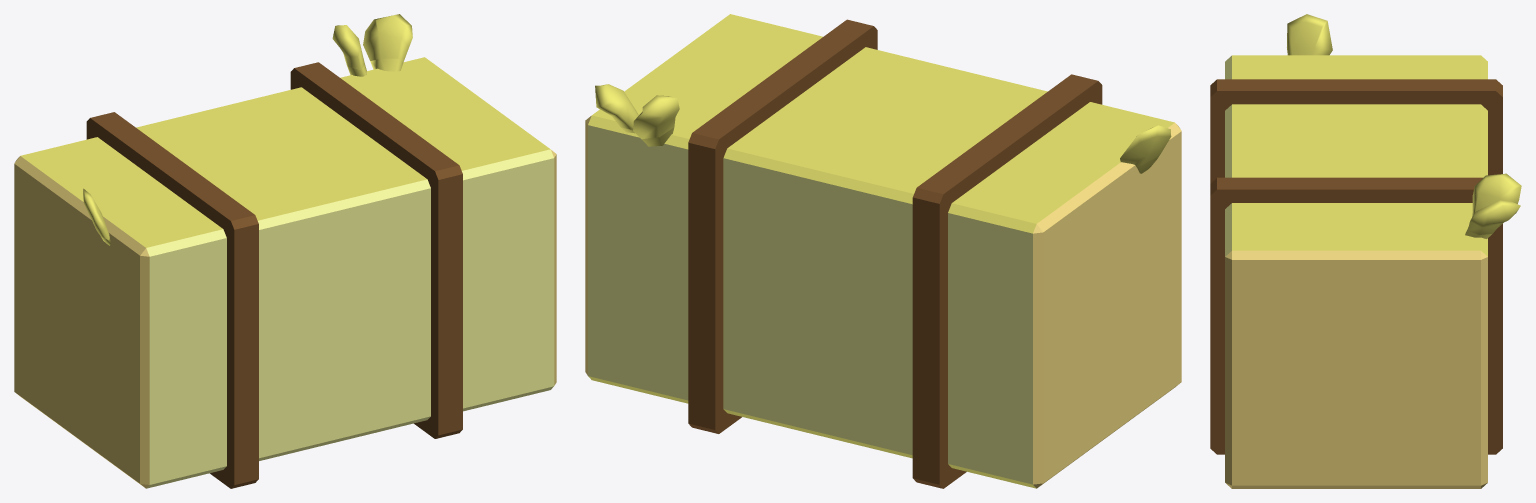
The model's file is borom.fbx.
3 renders of one model, left to right at view 1: azimuth 30°, elevation 25°; view 2: azimuth 150°, elevation 25°; view 3: azimuth 270°, elevation 25°, orthographic. The views are drawn at different scales.
Parts seen in each view (by area): view 1: borom; view 2: borom; view 3: borom.
Part boxes in pixels (x1,y1,x2,y2): borom: (14,14,556,488); borom: (585,14,1181,488); borom: (1210,14,1521,488).
Bounding box in the file's own units: 332 × 216 × 208.
